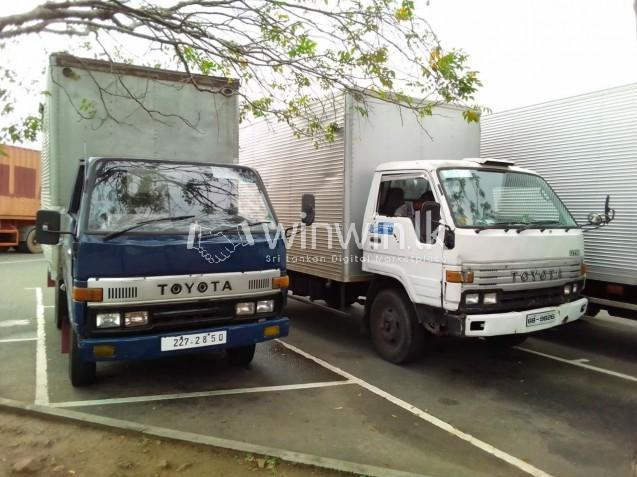truck: (239, 84, 613, 366), (35, 52, 315, 387)
